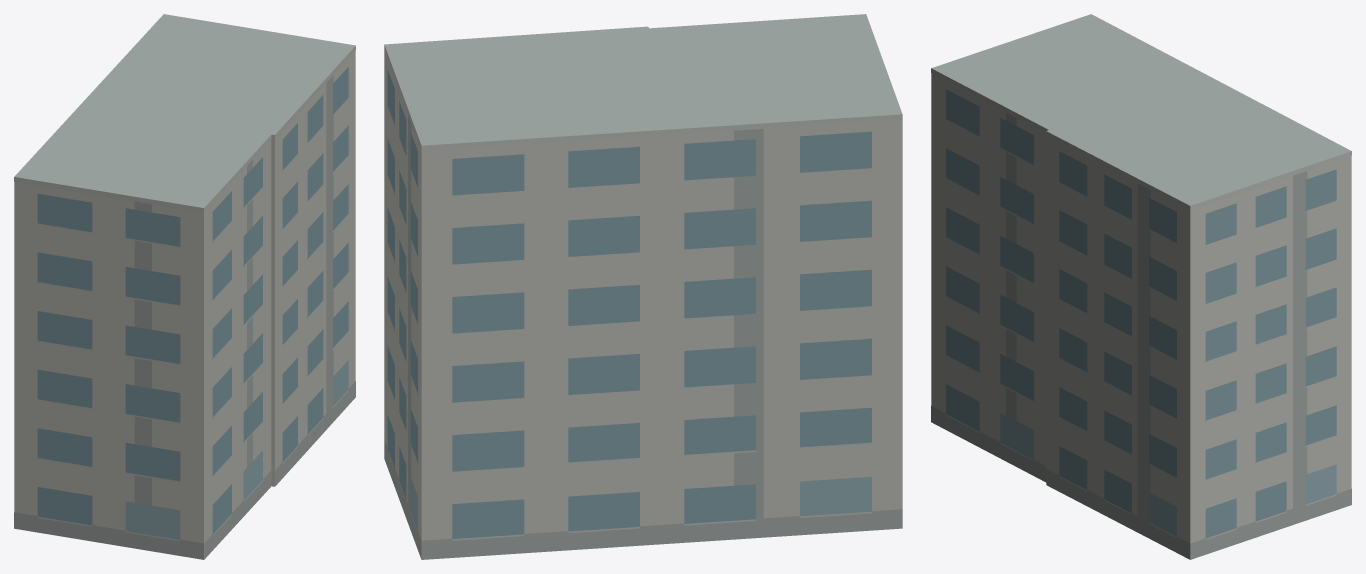
Rendered from survey-upis-32746251.glb.
3 views of the same model, side by side, from view 1: azimuth 30°, elevation 25°; view 2: azimuth 150°, elevation 25°; view 3: azimuth 270°, elevation 25° (orthographic). The views are drawn at different scales.
Visible parts, largest first — view 1: survey-upis-32746251.tmp; view 2: survey-upis-32746251.tmp; view 3: survey-upis-32746251.tmp.
Part boxes in pixels (x1=…): survey-upis-32746251.tmp: x1=14, y1=14, x2=355, y2=559; survey-upis-32746251.tmp: x1=384, y1=14, x2=902, y2=559; survey-upis-32746251.tmp: x1=931, y1=14, x2=1351, y2=559.
Size of the model in its own units: 21.29 by 18.3 by 19.71.
